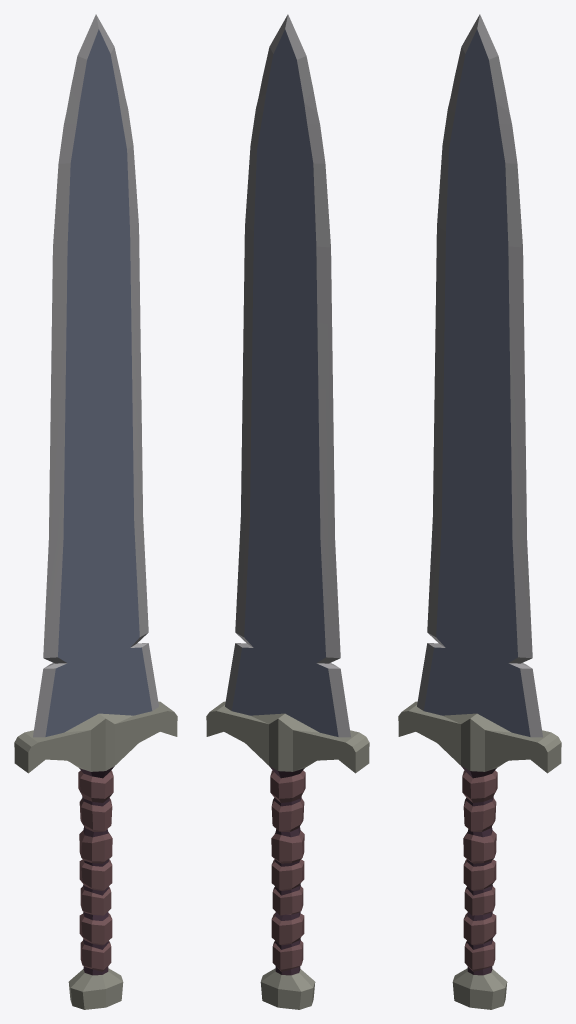
The model's file is sword_big.glb.
3 views of the same model, side by side, from view 1: azimuth 30°, elevation 25°; view 2: azimuth 150°, elevation 25°; view 3: azimuth 330°, elevation 25° (orthographic).
Parts seen in each view (by area): view 1: Sword_big; view 2: Sword_big; view 3: Sword_big.
Part boxes in pixels (x1,y1,x2,y2): Sword_big: (14, 14, 177, 1009); Sword_big: (206, 14, 369, 1009); Sword_big: (398, 14, 561, 1009).
Size of the model in its own units: 0.4331 by 2.73 by 0.1013.
